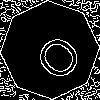O: (25, 25, 86, 85)
